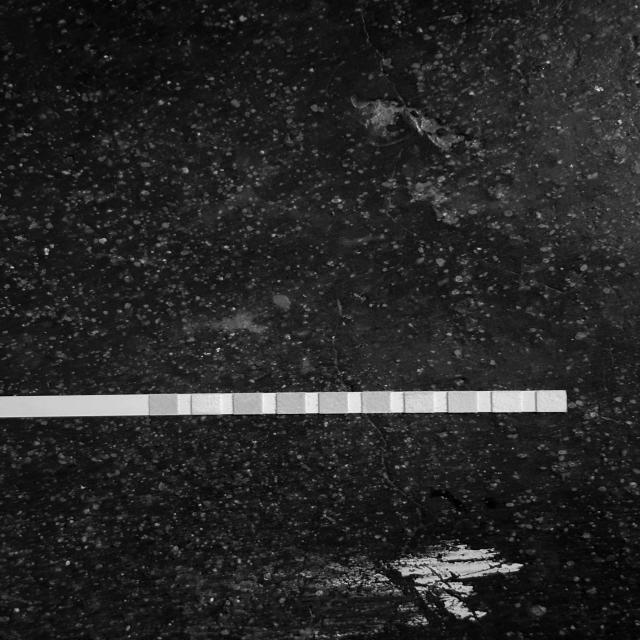Bilirubin: (193, 394, 218, 414)
Blood: (321, 393, 346, 413)
Glucose: (150, 395, 176, 414)
Ketone: (236, 394, 261, 414)
Leukocytes: (539, 391, 564, 411)
Nitrite: (494, 392, 520, 411)
Protein: (406, 392, 432, 412)
SpGravity: (278, 394, 303, 413)
Urobilinogen: (450, 392, 476, 412)
background: (0, 0, 640, 640)
pH: (363, 393, 389, 412)
strip: (12, 391, 567, 417)
